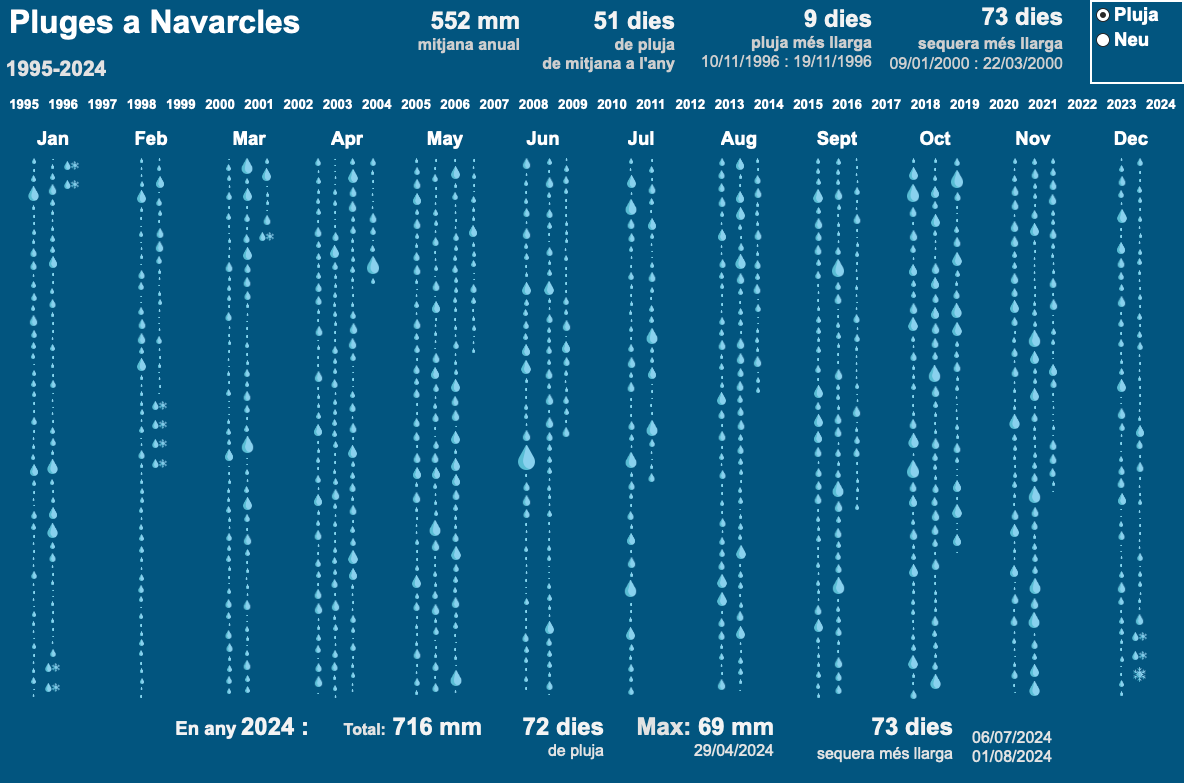

The page's visual inventory and layout, read from the dashboard file:
{"tool":"tableau","page":{"name":"Dashboard_1995-2024","canvas":[1200,800],"ordinal":0},"visuals":[{"type":"title","box":[8,8,411,84]},{"type":"worksheet","title":"mean_rainfall","mark":"Automatic","box":[419,8,123,84]},{"type":"worksheet","title":"mean_n_rainy_days","mark":"Automatic","box":[542,8,148,84]},{"type":"worksheet","title":"longest_rain","mark":"Automatic","cols":["full_date"],"box":[690,8,201,84]},{"type":"worksheet","title":"longest_drought","mark":"Automatic","cols":["full_date"],"box":[891,8,207,84]},{"type":"parameter","param":"[Parameters].[Parameter 1]","box":[1098,8,94,84]},{"type":"worksheet","title":"years_bottoms","mark":"Text","cols":["full_date"],"box":[8,92,1184,40]},{"type":"worksheet","title":"Rain","mark":"Shape","cols":["full_date"],"box":[8,132,1184,585]},{"type":"blank","box":[8,717,117,75]},{"type":"worksheet","title":"choosed_year","mark":"Text","box":[125,717,200,75]},{"type":"worksheet","title":"rainfall","mark":"Text","box":[325,717,173,75]},{"type":"worksheet","title":"n_rainy_days ","mark":"Automatic","box":[498,717,122,75]},{"type":"worksheet","title":"max_rain","mark":"Text","box":[620,717,170,75]},{"type":"worksheet","title":"max_drought","mark":"Automatic","cols":["full_date"],"box":[790,717,182,75]},{"type":"worksheet","title":"max_drought_dates","mark":"Automatic","cols":["full_date"],"box":[972,717,220,75]}]}

Visuals, with their boxes in screenshot pixels (x1, y1, x2, y2), scaled from the page's 1200x800 canvas onto the 1184x783 screenshot:
title: 8,8,413,90
"mean_rainfall" worksheet: 413,8,535,90
"mean_n_rainy_days" worksheet: 535,8,681,90
"longest_rain" worksheet: 681,8,879,90
"longest_drought" worksheet: 879,8,1083,90
parameter: 1083,8,1176,90
"years_bottoms" worksheet (Text marks): 8,90,1176,129
"Rain" worksheet (Shape marks): 8,129,1176,702
blank: 8,702,123,775
"choosed_year" worksheet (Text marks): 123,702,321,775
"rainfall" worksheet (Text marks): 321,702,491,775
"n_rainy_days " worksheet: 491,702,612,775
"max_rain" worksheet (Text marks): 612,702,779,775
"max_drought" worksheet: 779,702,959,775
"max_drought_dates" worksheet: 959,702,1176,775
